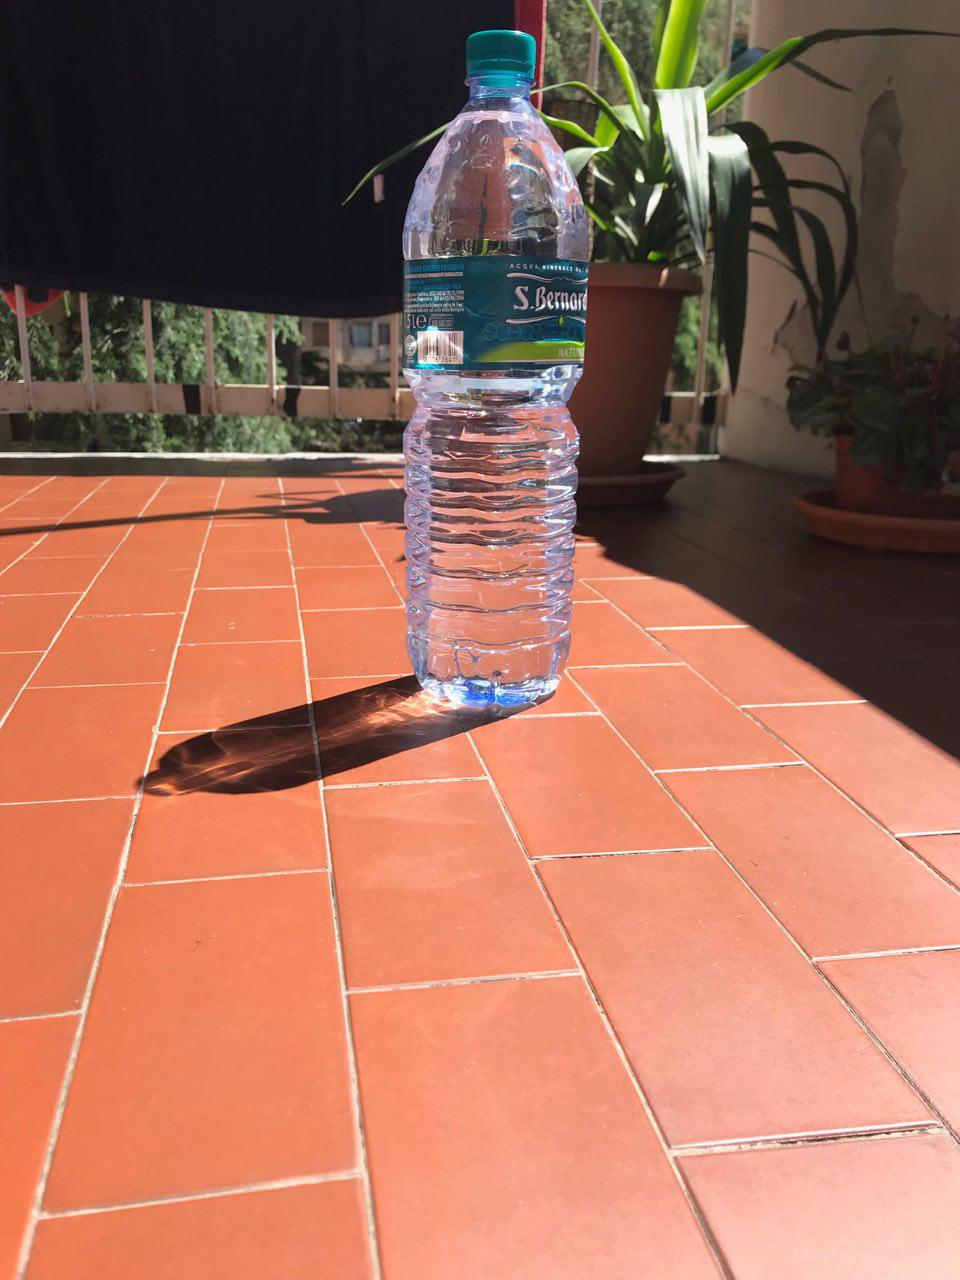san_bernardo: (401, 27, 591, 705)
